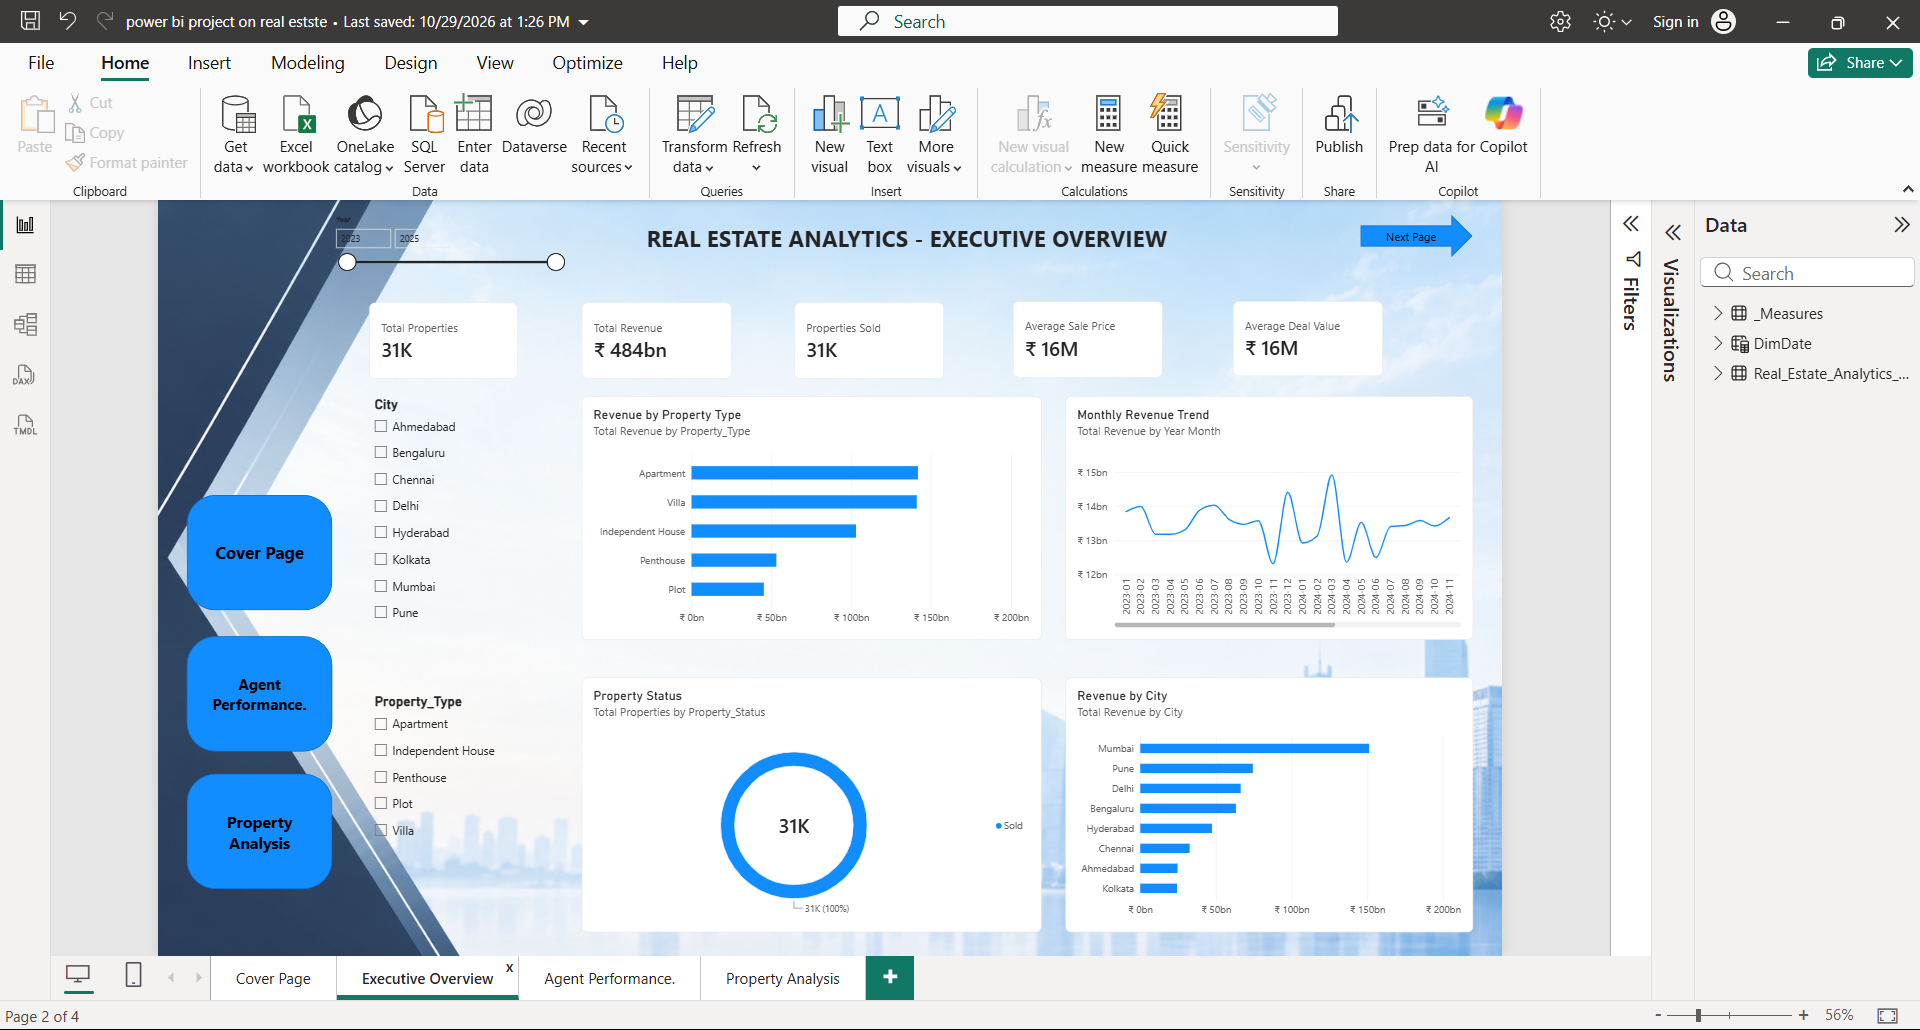

What the dashboard file says about the page in this screenshot:
{"tool":"powerbi","page":{"name":"Executive Overview","canvas":[1920,1080],"ordinal":1},"visuals":[{"type":"cardVisual","fields":{"Data":["_Measures.Total Properties"]},"box":[302.6,146.1,212,109.1],"z":0},{"type":"cardVisual","fields":{"Data":["_Measures.Total Revenue"]},"box":[605.1,146.1,214.1,109.1],"z":1},{"type":"cardVisual","fields":{"Data":["_Measures.Properties Sold"]},"box":[909.8,146.1,214.1,109.1],"z":2},{"type":"cardVisual","fields":{"Data":["_Measures.Average Sale Price"]},"box":[1220.6,144.1,214.1,109.1],"z":3},{"type":"lineChart","title":"Monthly Revenue Trend","fields":{"Category":["DimDate.Year Month"],"Y":["_Measures.Total Revenue"]},"box":[1296.7,279.9,582.5,347.9],"z":5},{"type":"clusteredBarChart","title":"Revenue by Property Type","fields":{"Category":["Real_Estate_Analytics_50000.Property_Type"],"Y":["_Measures.Total Revenue"]},"box":[605.1,279.9,656.6,347.9],"z":6},{"type":"clusteredBarChart","title":"Revenue by City","fields":{"Category":["Real_Estate_Analytics_50000.City"],"Y":["_Measures.Total Revenue"]},"box":[1296.7,681.3,582.5,364.3],"z":7},{"type":"donutChart","title":"Property Status","fields":{"Category":["Real_Estate_Analytics_50000.Property_Status"],"Y":["_Measures.Total Properties"]},"box":[605.1,681.3,656.6,364.3],"z":8},{"type":"slicer","fields":{"Values":["Real_Estate_Analytics_50000.City"]},"box":[302.6,279.9,259.3,347.9],"z":9},{"type":"slicer","fields":{"Values":["Real_Estate_Analytics_50000.Property_Type"]},"box":[302.6,706,259.3,319],"z":10},{"type":"slicer","fields":{"Values":["DimDate.Year"]},"box":[247,20.6,337.6,92.6],"z":11},{"type":"cardVisual","fields":{"Data":["_Measures.Average Deal Value"]},"box":[1535.5,144.1,214.1,107],"z":13},{"type":"textbox","box":[697.8,32.9,751.5,48.3],"z":14},{"type":"shape","box":[1718.7,20.6,160,60],"z":15},{"type":"shape","box":[41.2,422,207.9,164.7],"z":17},{"type":"shape","box":[41.2,623.7,207.9,164.7],"z":18},{"type":"shape","box":[41.2,819.2,207.9,164.7],"z":19}]}

Visuals, with their boxes on the page's 1920x1080 design canvas (x1, y1, x2, y2). These are canvas units, not pixel positions in the 1920x1030 screenshot, which may show the page scaled, cropped or inside an application window:
cardVisual - _Measures.Total Properties: [303, 146, 515, 255]
cardVisual - _Measures.Total Revenue: [605, 146, 819, 255]
cardVisual - _Measures.Properties Sold: [910, 146, 1124, 255]
cardVisual - _Measures.Average Sale Price: [1221, 144, 1435, 253]
"Monthly Revenue Trend" lineChart: [1297, 280, 1879, 628]
"Revenue by Property Type" clusteredBarChart: [605, 280, 1262, 628]
"Revenue by City" clusteredBarChart: [1297, 681, 1879, 1046]
"Property Status" donutChart: [605, 681, 1262, 1046]
slicer - Real_Estate_Analytics_50000.City: [303, 280, 562, 628]
slicer - Real_Estate_Analytics_50000.Property_Type: [303, 706, 562, 1025]
slicer - DimDate.Year: [247, 21, 585, 113]
cardVisual - _Measures.Average Deal Value: [1536, 144, 1750, 251]
textbox: [698, 33, 1449, 81]
shape: [1719, 21, 1879, 81]
shape: [41, 422, 249, 587]
shape: [41, 624, 249, 788]
shape: [41, 819, 249, 984]
